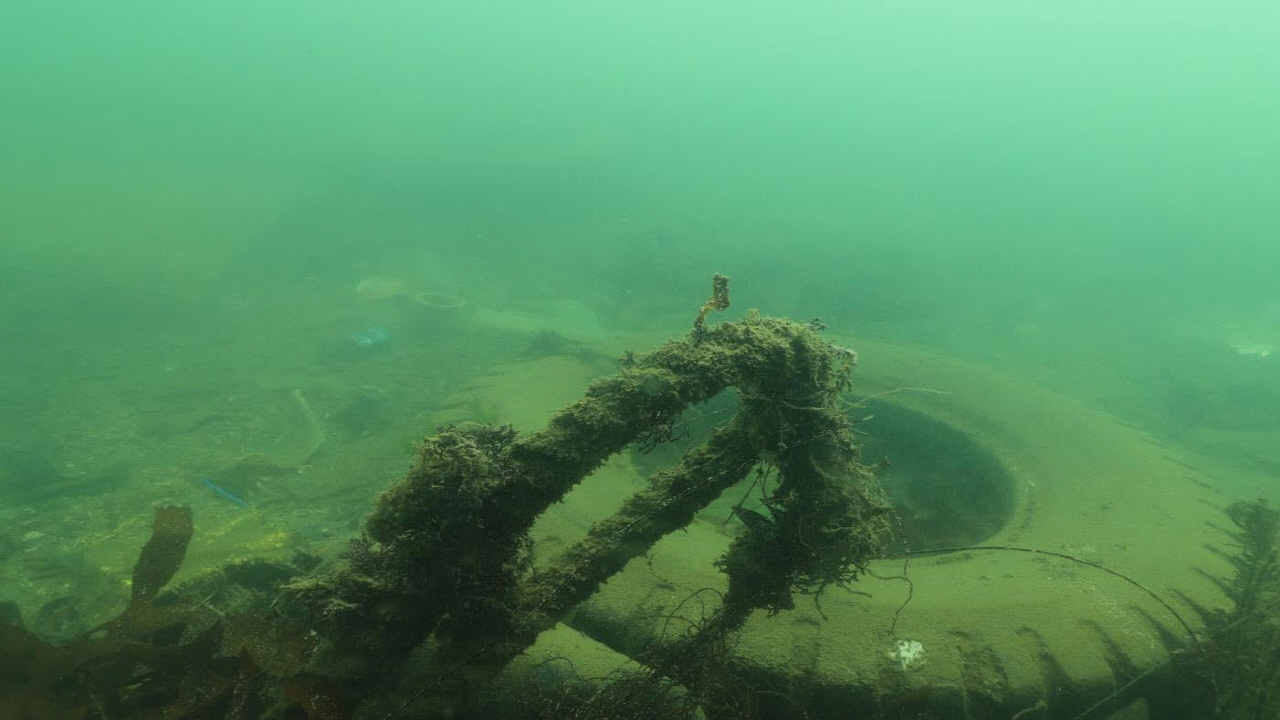rope: (296, 321, 827, 720)
tire: (425, 322, 1243, 720)
